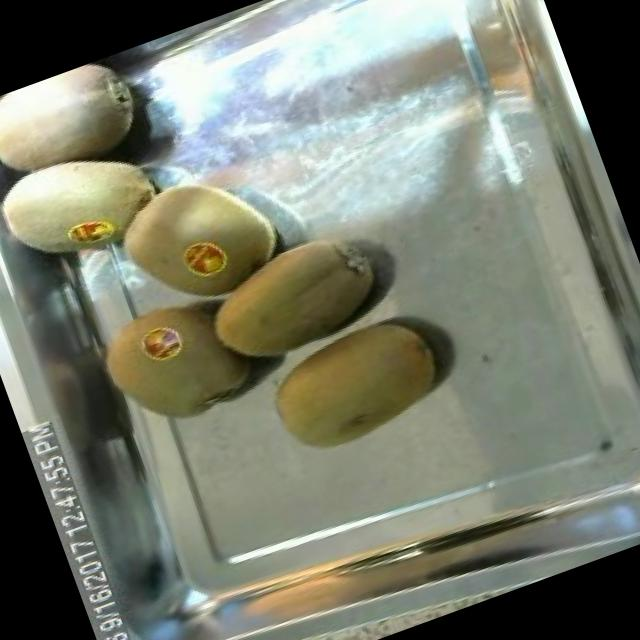Fruit: (248, 294, 468, 478), (182, 208, 405, 388), (92, 139, 300, 319), (77, 268, 277, 448), (0, 131, 184, 290), (0, 48, 162, 196)
